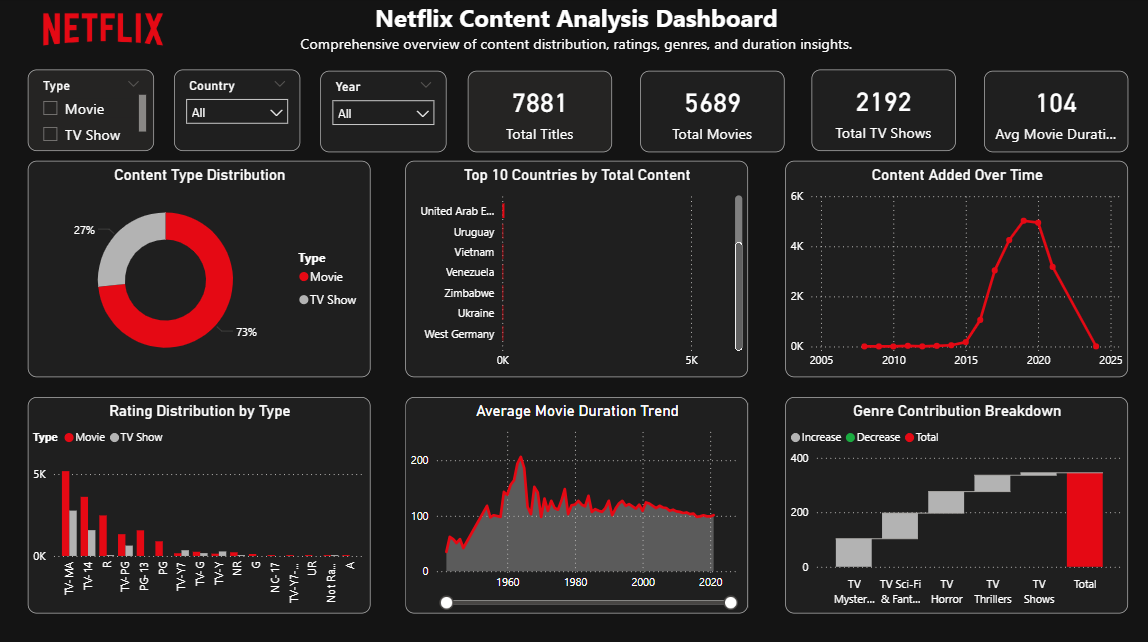

The dashboard page shown, as its layout file describes it:
{"tool":"powerbi","page":{"name":"Netflix 1","canvas":[1280,720],"ordinal":0},"visuals":[{"type":"textbox","box":[0,0,1280,81.2],"z":0},{"type":"card","fields":{"Values":["Sheet1.Total Titles"]},"box":[520,81.2,160,90],"z":1000},{"type":"donutChart","title":"Content Type Distribution","fields":{"Category":["Sheet1.type"],"Y":["CountNonNull(Sheet1.show_id)"]},"box":[31.2,181.2,380,240],"z":2000},{"type":"clusteredBarChart","title":"Top 10 Countries by Total Content","fields":{"Category":["Sheet1.country"],"Y":["CountNonNull(Sheet1.show_id)"]},"box":[450,181.2,380,240],"z":3000},{"type":"clusteredColumnChart","title":"Rating Distribution by Type","fields":{"Series":["Sheet1.type"],"Category":["Sheet1.rating"],"Y":["CountNonNull(Sheet1.show_id)"]},"box":[31.2,443.8,380,240],"z":4000},{"type":"lineChart","title":"Content Added Over Time","fields":{"Category":["Sheet1.year_added"],"Y":["CountNonNull(Sheet1.show_id)"]},"box":[871.2,181.2,380,240],"z":5000},{"type":"areaChart","title":"Average Movie Duration Trend","fields":{"Category":["Sheet1.release_year"],"Y":["Sheet1.Avg Movie Duration"]},"box":[450,443.8,380,240],"z":6000},{"type":"waterfallChart","title":"Genre Contribution Breakdown","fields":{"Category":["Sheet1.listed_in"],"Y":["CountNonNull(Sheet1.show_id)"]},"box":[871.2,443.8,380,240],"z":7000},{"type":"slicer","fields":{"Values":["Sheet1.type"]},"box":[31.2,80,140,90],"z":8000},{"type":"image","box":[31.2,0,167.5,72.5],"z":9000},{"type":"card","fields":{"Values":["Sheet1.Total Movies"]},"box":[711.2,81.2,160,90],"z":10000},{"type":"card","fields":{"Values":["Sheet1.Total TV Shows"]},"box":[901.2,80,160,90],"z":11000},{"type":"card","fields":{"Values":["Sheet1.Avg Movie Duration"]},"box":[1091.2,81.2,160,90],"z":12000},{"type":"slicer","fields":{"Values":["Sheet1.country"]},"box":[193.8,80,140,90],"z":13000},{"type":"slicer","fields":{"Values":["Sheet1.year_added"]},"box":[356.2,81.2,140,90],"z":14000}]}

Visuals, with their boxes in screenshot pixels (x1, y1, x2, y2), scaled from the page's 1280x720 canvas onto the 1148x642 screenshot:
textbox: 0 0 1147 72
card - Sheet1.Total Titles: 466 72 610 153
"Content Type Distribution" donutChart: 28 162 369 376
"Top 10 Countries by Total Content" clusteredBarChart: 404 162 744 376
"Rating Distribution by Type" clusteredColumnChart: 28 396 369 610
"Content Added Over Time" lineChart: 781 162 1122 376
"Average Movie Duration Trend" areaChart: 404 396 744 610
"Genre Contribution Breakdown" waterfallChart: 781 396 1122 610
slicer - Sheet1.type: 28 71 154 152
image: 28 0 178 65
card - Sheet1.Total Movies: 638 72 781 153
card - Sheet1.Total TV Shows: 808 71 952 152
card - Sheet1.Avg Movie Duration: 979 72 1122 153
slicer - Sheet1.country: 174 71 299 152
slicer - Sheet1.year_added: 319 72 445 153
